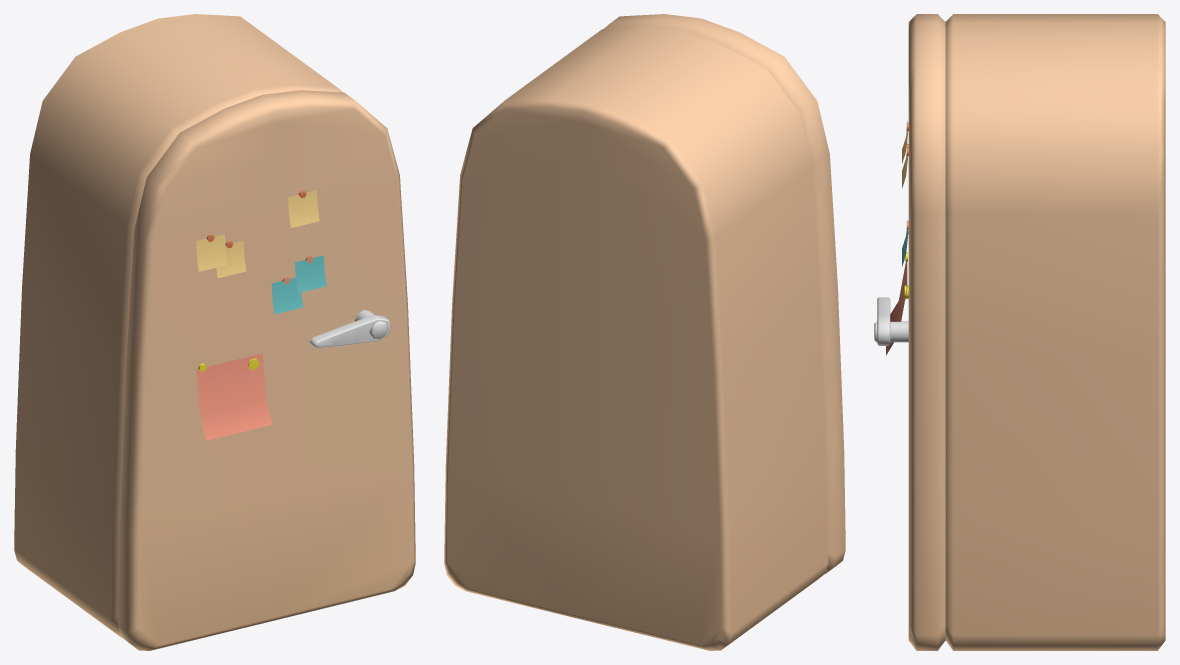
Rendered from Decor_Tulanh.fbx.
3 views of the same model, side by side, from view 1: azimuth 30°, elevation 25°; view 2: azimuth 150°, elevation 25°; view 3: azimuth 270°, elevation 25° (orthographic). The views are drawn at different scales.
Parts seen in each view (by area): view 1: Decor_Tulanh; view 2: Decor_Tulanh; view 3: Decor_Tulanh.
Part boxes in pixels (x1,y1,x2,y2): Decor_Tulanh: (14,14,415,650); Decor_Tulanh: (444,14,845,650); Decor_Tulanh: (874,14,1165,650).
Bounding box in the file's own units: 135 × 234 × 113.
